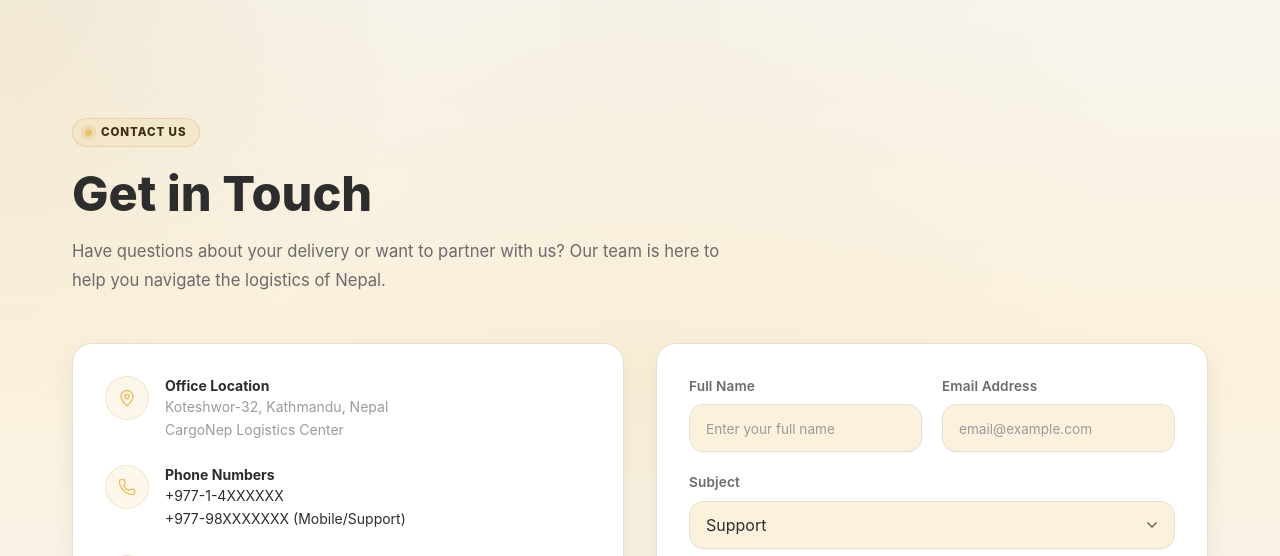
content, contact, announcements, and assistant UI › shows a public inquiry submission error
In the field labelled "Full Name": (806, 428) [689,404,922,452], type "Ram Laxmi"
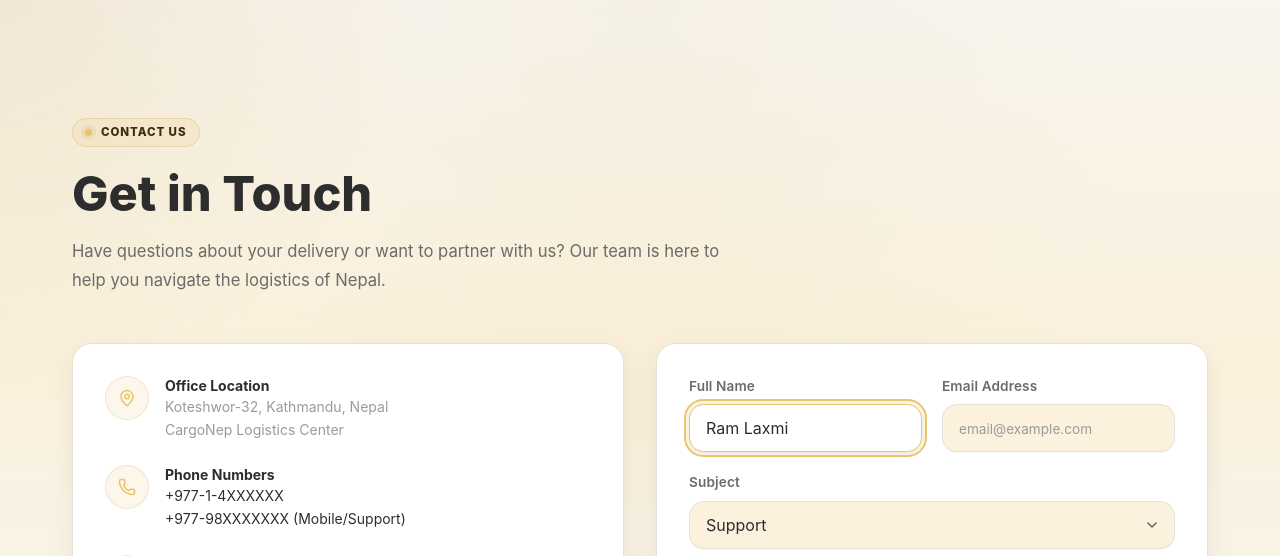
In the field labelled "Email Address": (1058, 428) [942,404,1175,452], type "ram@example.com"
(page scrolled)
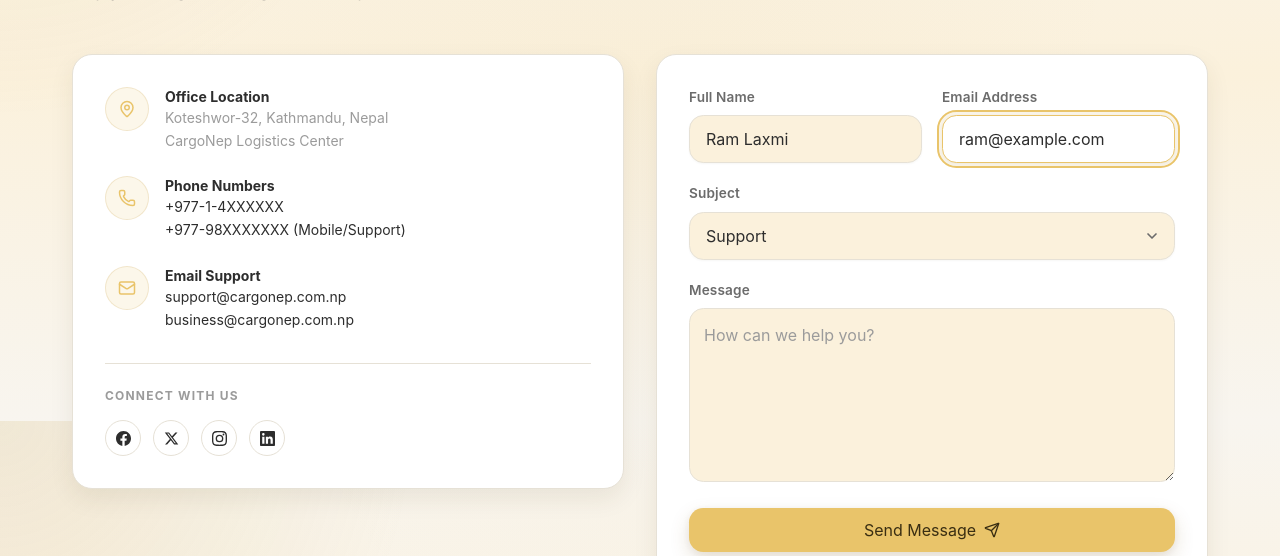
In the text box labelled "Message": (932, 395) [689,308,1175,482], type "A valid inquiry message"
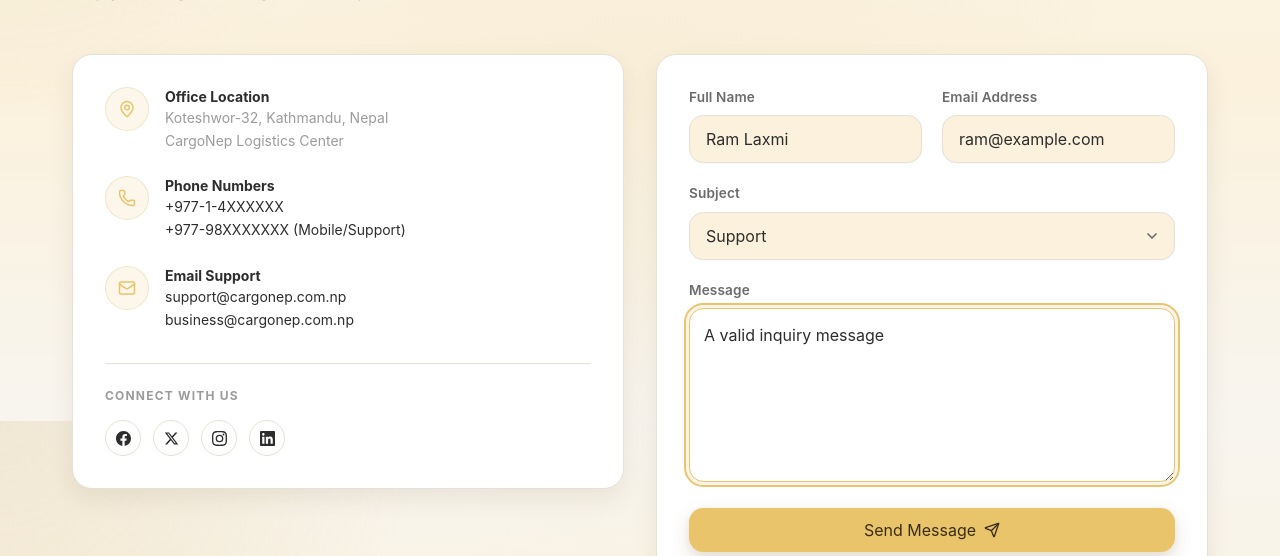
Click the button "Send Message": (932, 530) [689,508,1175,552]
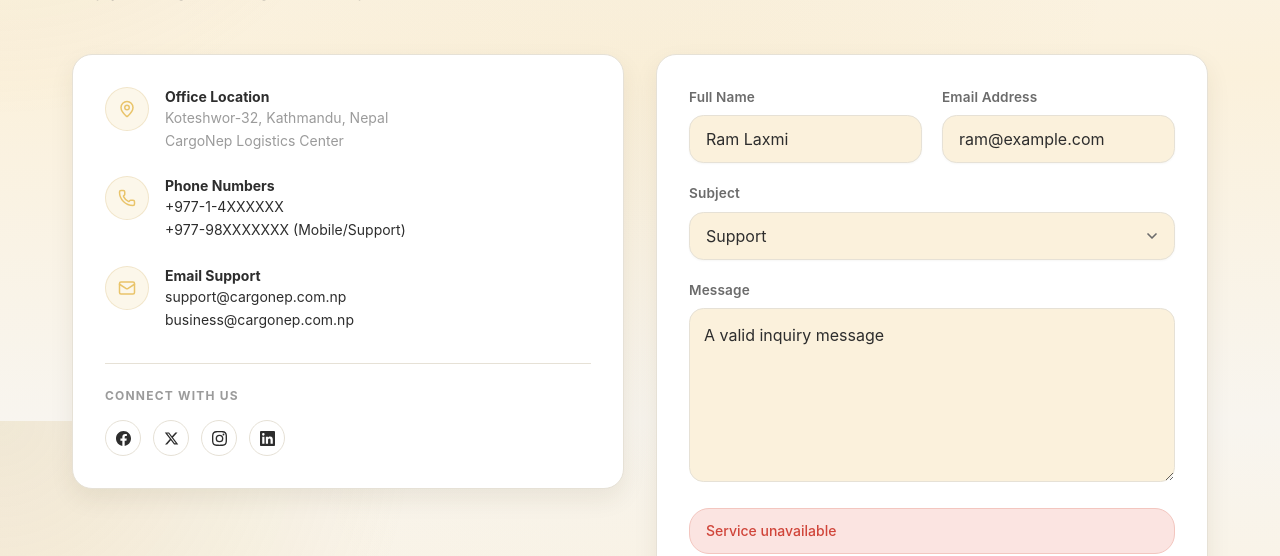
Expected: the message reads "Service unavailable", [706,522,836,539]
